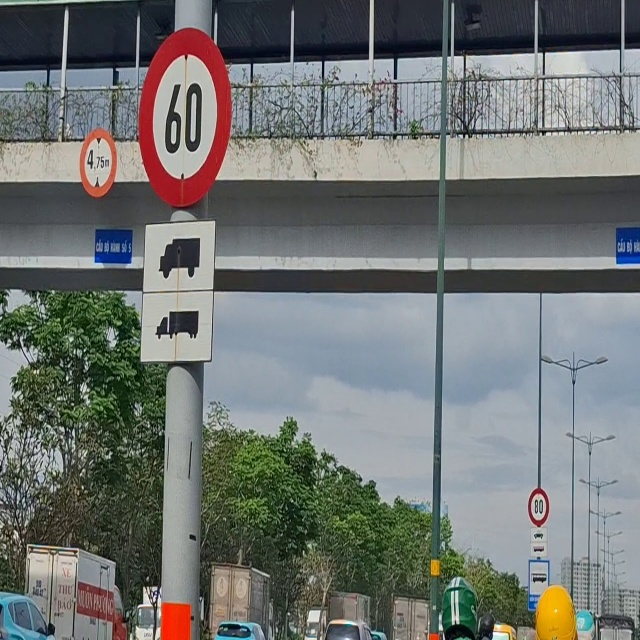toc do toi da 60km/h: (124, 21, 256, 212)
